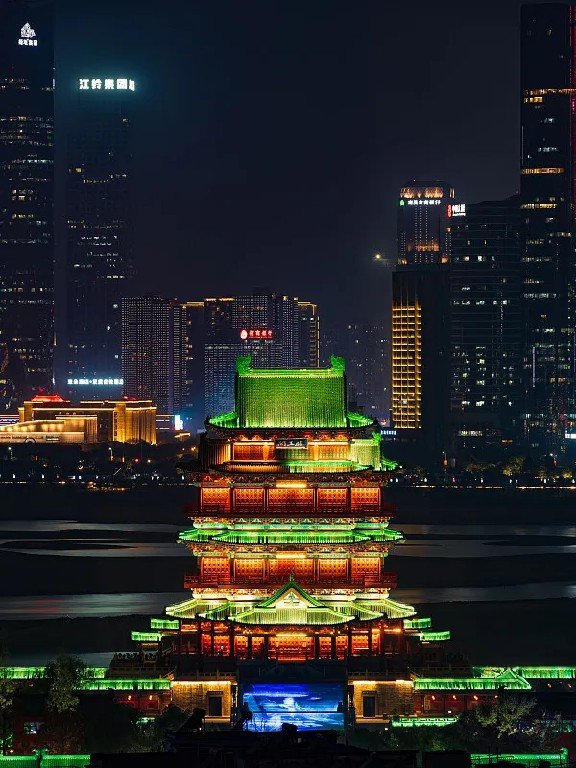Teng: (130, 352, 451, 666)
